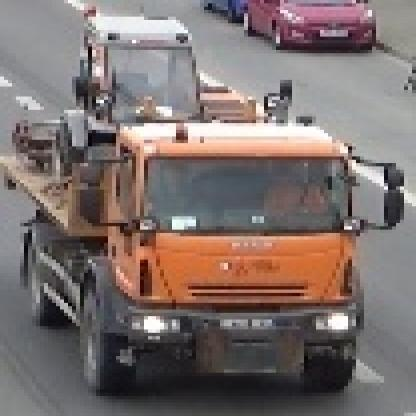truck: (1, 85, 401, 391)
